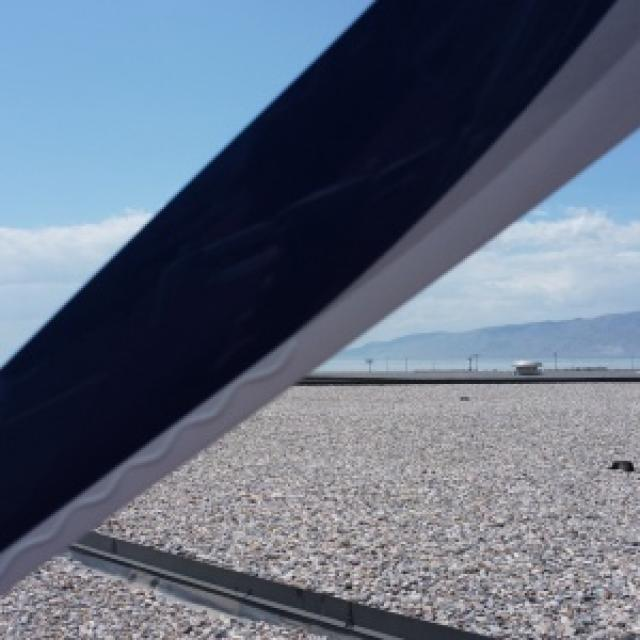healthy: (0, 0, 638, 589)
